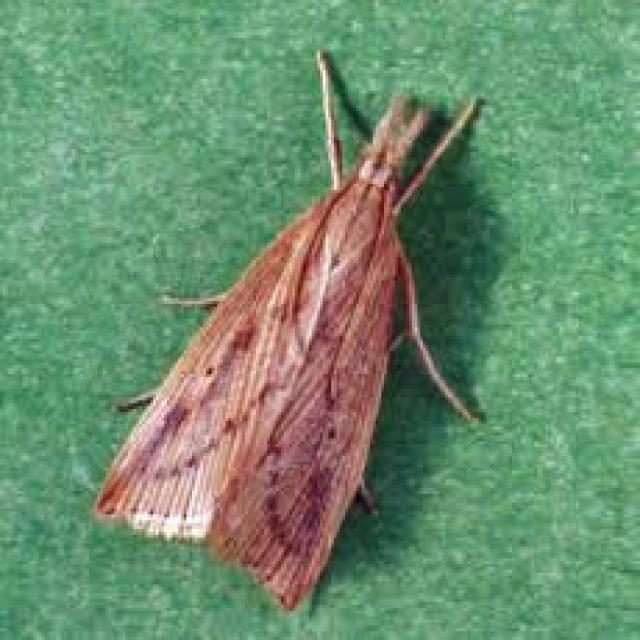yellow-stem-borer: (75, 35, 523, 608)
